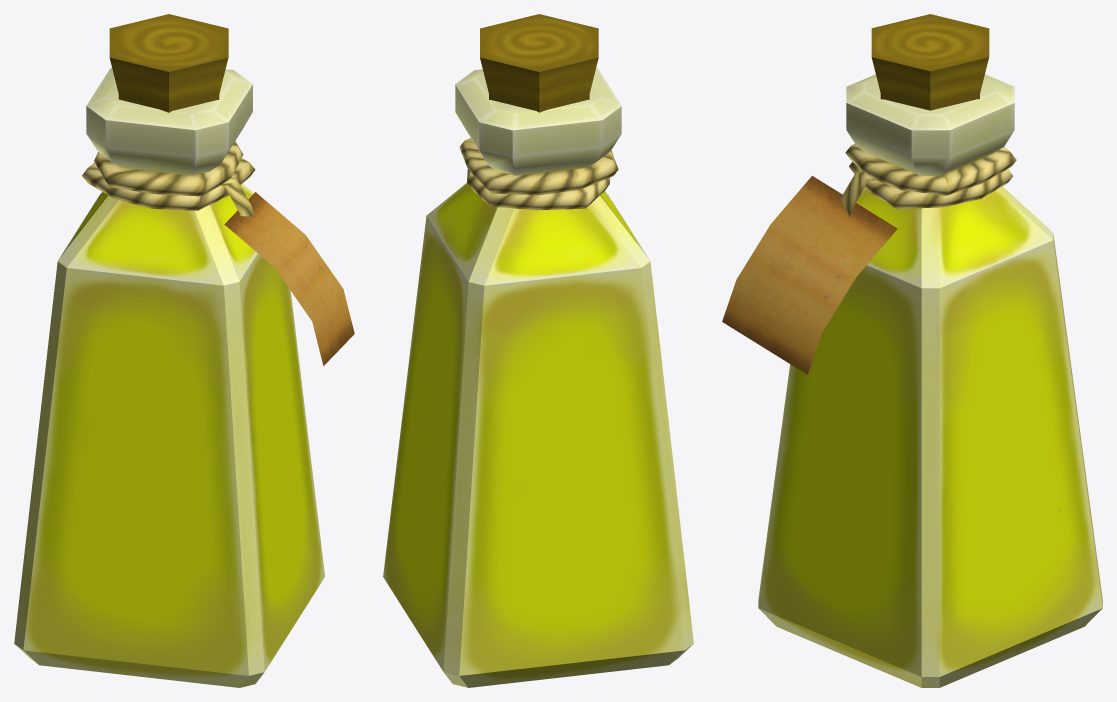
File: bottle_small_008.fbx
The picture shows the model from 3 angles, left to right: view 1: azimuth 30°, elevation 25°; view 2: azimuth 150°, elevation 25°; view 3: azimuth 270°, elevation 25°; orthographic projection.
Visible parts, largest first — view 1: bottle_small_008; view 2: bottle_small_008; view 3: bottle_small_008.
Part boxes in pixels (bbox=[...]): bottle_small_008: bbox=[14, 14, 354, 687]; bottle_small_008: bbox=[383, 14, 693, 687]; bottle_small_008: bbox=[722, 14, 1102, 687].
Bounding box in the file's own units: 8.37 × 15.54 × 9.25.
